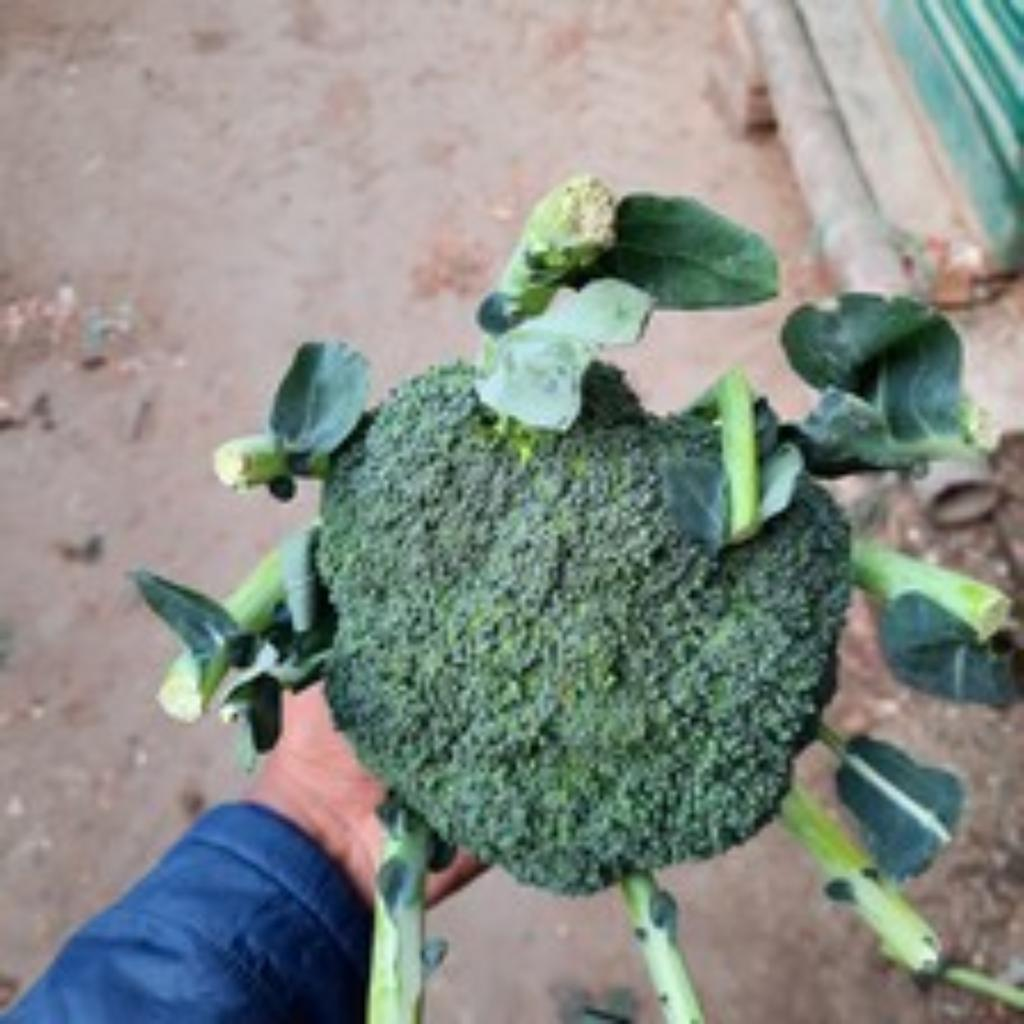Broccoli: (318, 362, 848, 893), (318, 362, 848, 891)
